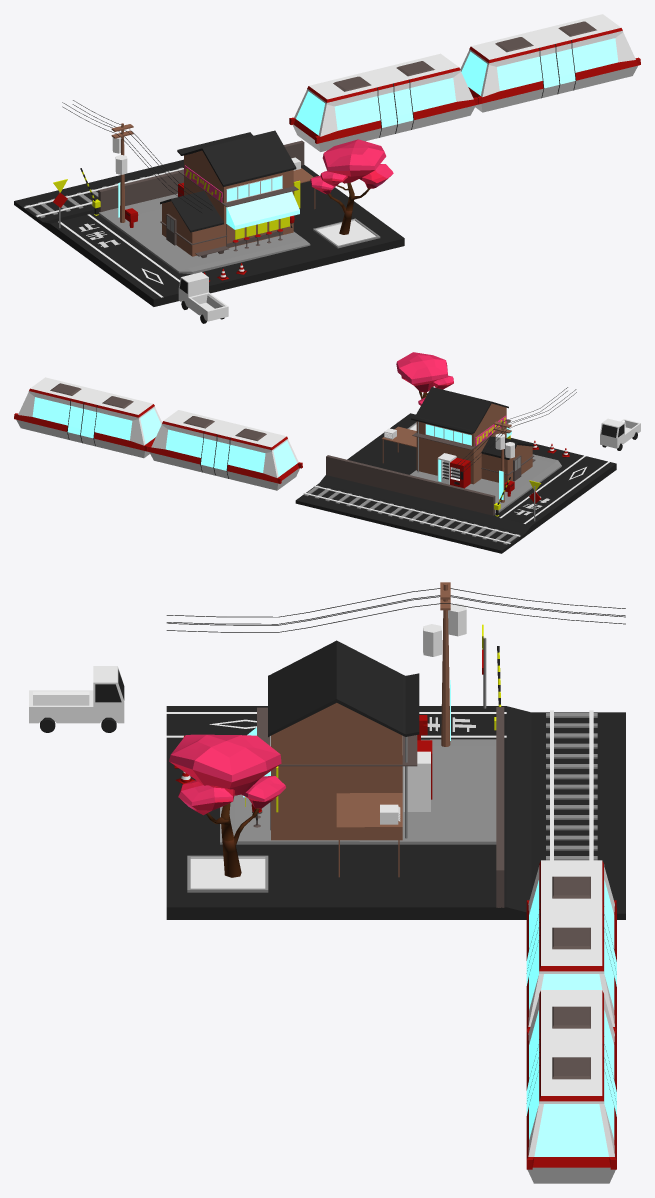
File: paysage.gltf
3 renders of one model, top to bottom at view 1: azimuth 30°, elevation 25°; view 2: azimuth 150°, elevation 25°; view 3: azimuth 270°, elevation 25°, orthographic. The views are drawn at different scales.
Parts seen in each view (by area): view 1: wagon, road, house, trottoir.001, fleats, wall, car, earth, cable, roadstrip, three, Cube (+3 smaller); view 2: wagon, road, house, wall, trottoir.001, fleats, repeatRails, car, rails, machineBoisson2, cable, roadstrip (+3 smaller); view 3: road, wagon, house, trottoir.001, fleats, car, repeatRails, earth, cable, wall, machineBoisson1, rails (+4 smaller).
Part boxes in pixels (x1,y1,x2,y2): wagon: (289, 14, 640, 151); road: (14, 159, 404, 306); house: (160, 130, 315, 256); trottoir.001: (99, 193, 310, 274); fleats: (310, 139, 393, 194); wall: (98, 140, 304, 212); car: (178, 272, 228, 321); earth: (313, 218, 380, 248); cable: (62, 100, 212, 212); roadstrip: (58, 214, 179, 297); three: (328, 182, 370, 234); Cube: (235, 216, 289, 239); wagon: (14, 377, 302, 490); road: (295, 413, 616, 553); house: (381, 387, 534, 484); wall: (326, 455, 495, 515); trottoir.001: (410, 454, 561, 514); fleats: (396, 352, 453, 405); repeatRails: (304, 485, 519, 544); car: (600, 418, 640, 448); rails: (303, 485, 520, 544); machineBoisson2: (450, 457, 470, 488); cable: (453, 387, 576, 472); roadstrip: (499, 455, 609, 523); road: (166, 706, 625, 919); wagon: (526, 860, 616, 1183); house: (243, 640, 419, 877); trottoir.001: (220, 739, 496, 844); fleats: (169, 734, 285, 815); car: (29, 666, 124, 723); repeatRails: (546, 713, 597, 860); earth: (187, 855, 268, 892); cable: (166, 588, 625, 632); wall: (496, 707, 504, 907); machineBoisson1: (403, 751, 430, 811); rails: (550, 710, 593, 860).
Size of the model in its own units: 40.95 by 7.04 by 21.43.
